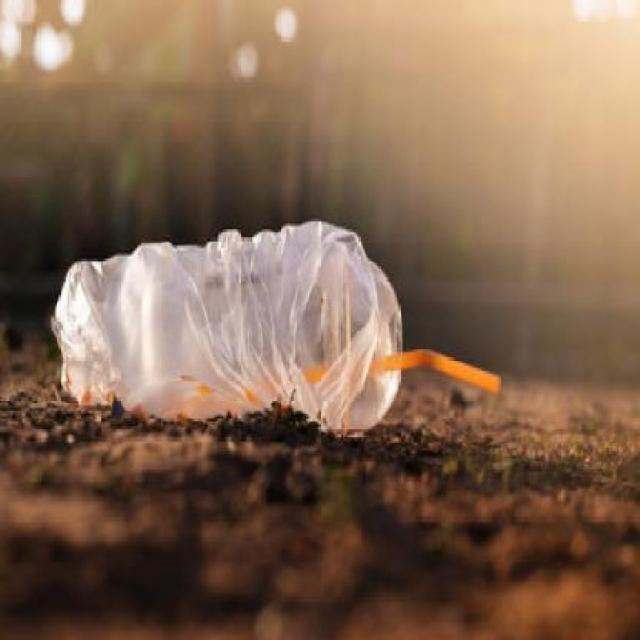plastic bag: (48, 223, 423, 495)
